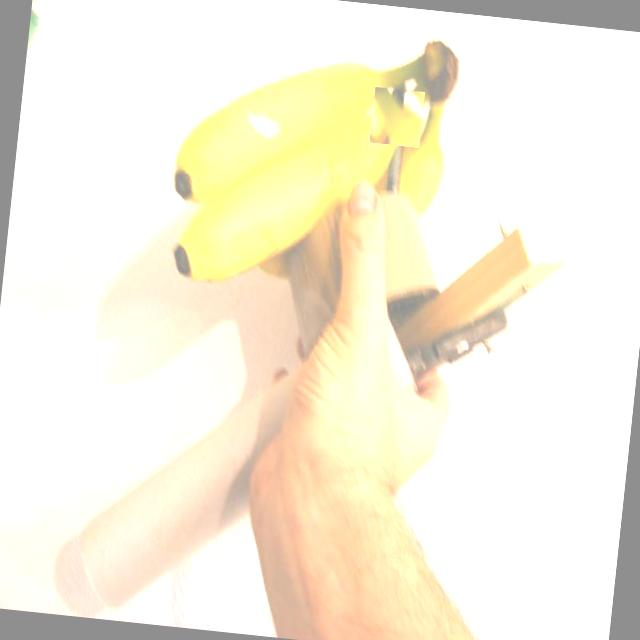Banana: (168, 12, 460, 300)
